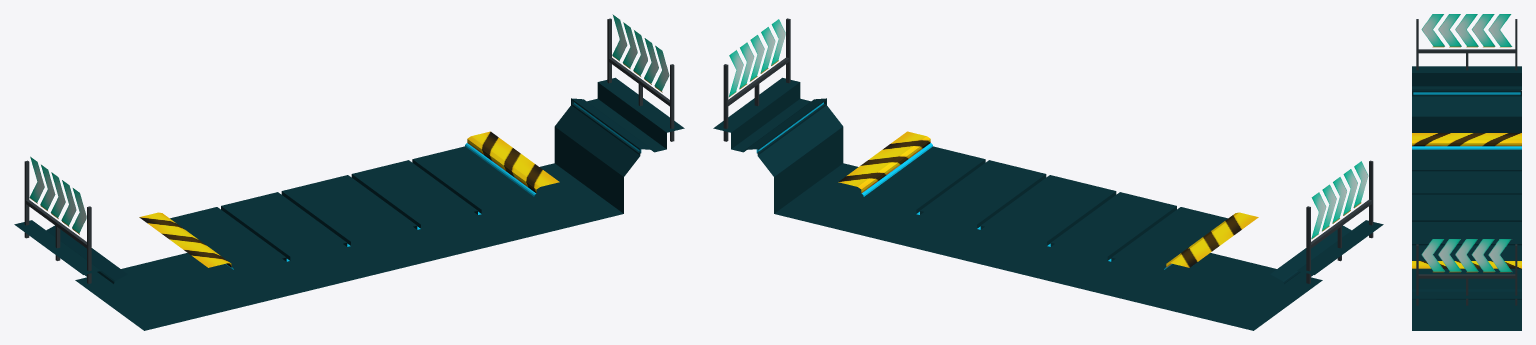
Rendered from Pista_azul.fbx.
3 views of the same model, side by side, from view 1: azimuth 30°, elevation 25°; view 2: azimuth 150°, elevation 25°; view 3: azimuth 270°, elevation 25° (orthographic). The views are drawn at different scales.
Visible parts, largest first — view 1: Pista_azul; view 2: Pista_azul; view 3: Pista_azul.
Part boxes in pixels (x1,y1,x2,y2): Pista_azul: (14,14,684,330); Pista_azul: (713,18,1383,330); Pista_azul: (1412,14,1521,330).
Size of the model in its own units: 1002 by 225 by 200.
